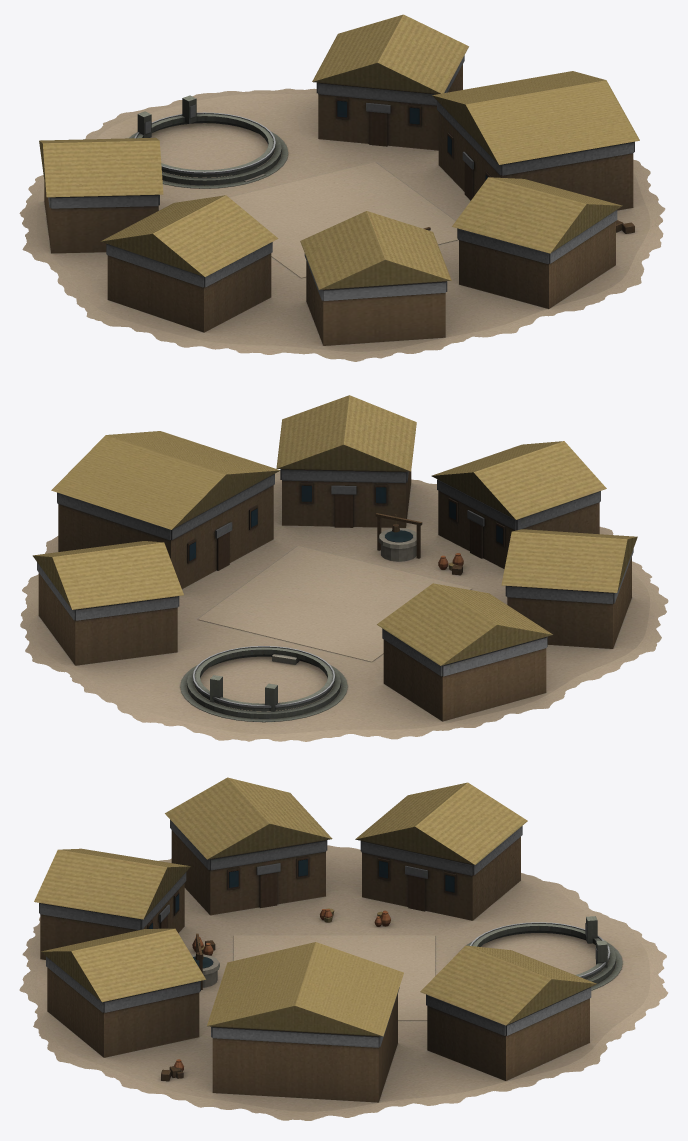
File: bronze-town-small-b-americas.glb
3 renders of one model, top to bottom at view 1: azimuth 30°, elevation 25°; view 2: azimuth 150°, elevation 25°; view 3: azimuth 270°, elevation 25°, orthographic.
Parts seen in each view (by area): view 1: LOD0; view 2: LOD0; view 3: LOD0.
Boxes of the visible parts, <box> form: LOD0: <box>19,14,665,361</box>; LOD0: <box>20,395,668,741</box>; LOD0: <box>19,777,668,1120</box>.
Size of what is drawn, in the model's own units: 4.03 by 0.65 by 3.94.
Materials: 3 (3 with a texture image).
